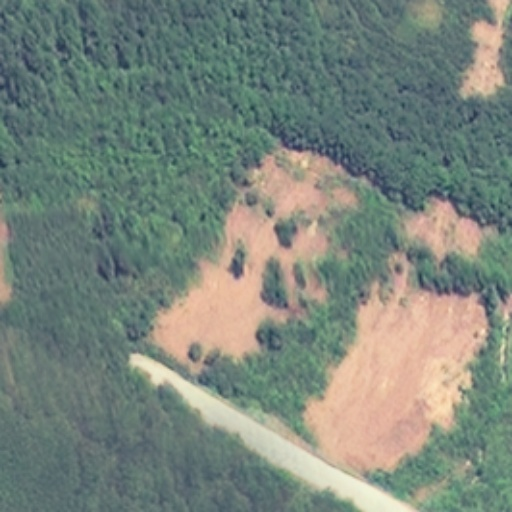landslide: (154, 151, 484, 471), (458, 4, 511, 100)
